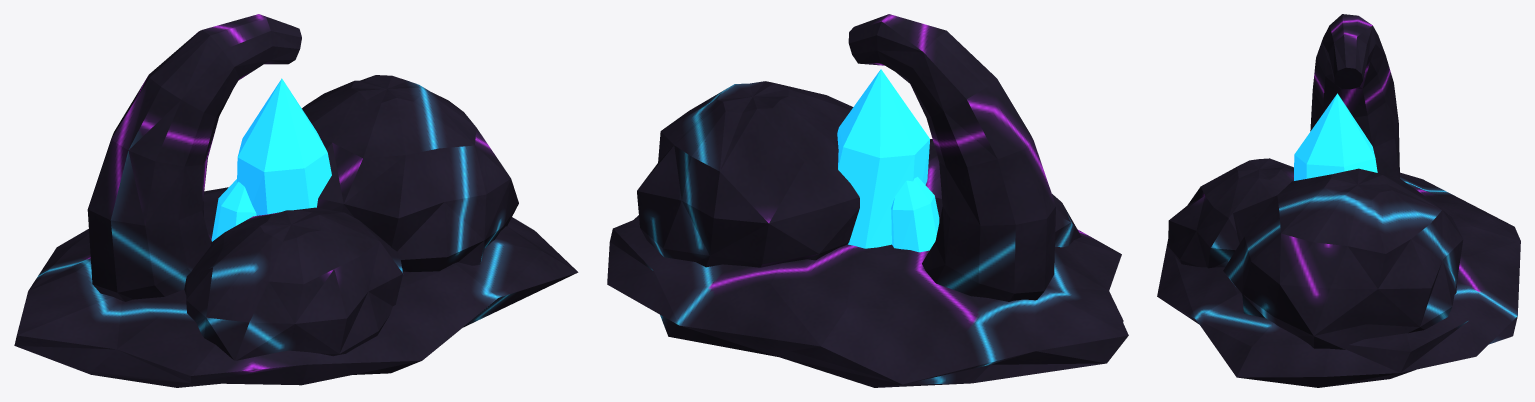
File: AnomalousStoneB.fbx
3 views of the same model, side by side, from view 1: azimuth 30°, elevation 25°; view 2: azimuth 150°, elevation 25°; view 3: azimuth 270°, elevation 25° (orthographic). The views are drawn at different scales.
Visible parts, largest first — view 1: Anomalous_Loose_B_LOD0; view 2: Anomalous_Loose_B_LOD0; view 3: Anomalous_Loose_B_LOD0.
Boxes of the visible parts, x1,y1,x2,y2 form: Anomalous_Loose_B_LOD0: [14, 14, 578, 387]; Anomalous_Loose_B_LOD0: [607, 14, 1128, 387]; Anomalous_Loose_B_LOD0: [1157, 14, 1520, 387].
Size of what is drawn, in the model's own units: 21187 by 12237 by 15263.
